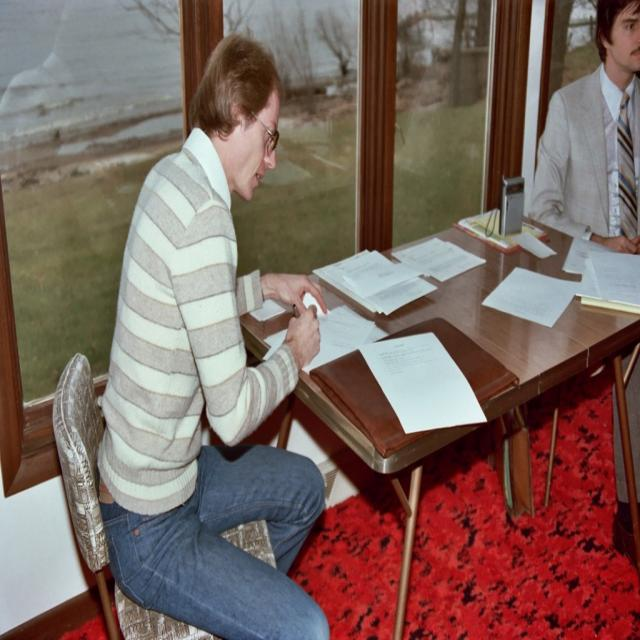chair: (50, 352, 326, 634), (52, 352, 125, 634)
desk: (238, 212, 640, 573)
person: (94, 31, 330, 634), (527, 0, 640, 259)
